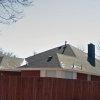Chimney: (75, 38, 97, 70)
